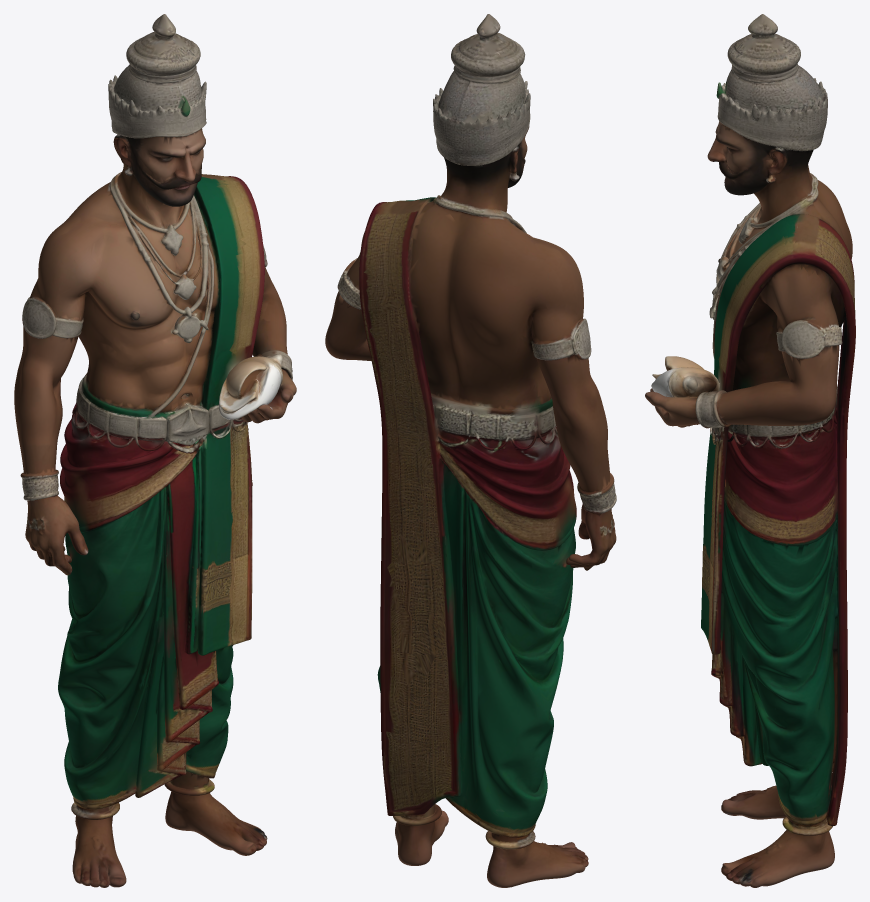
Rendered from kulasekara_pandya_i.glb.
The picture shows the model from 3 angles, left to right: view 1: azimuth 30°, elevation 25°; view 2: azimuth 150°, elevation 25°; view 3: azimuth 270°, elevation 25°; orthographic projection.
Parts seen in each view (by area): view 1: node_0; view 2: node_0; view 3: node_0.
Boxes of the visible parts, x1,y1,x2,y2 form: node_0: (14,14,296,887); node_0: (325,14,616,887); node_0: (645,14,855,887).
Bounding box in the file's own units: 0.3882 × 1.18 × 0.2703.
1 material, 1 textured.
